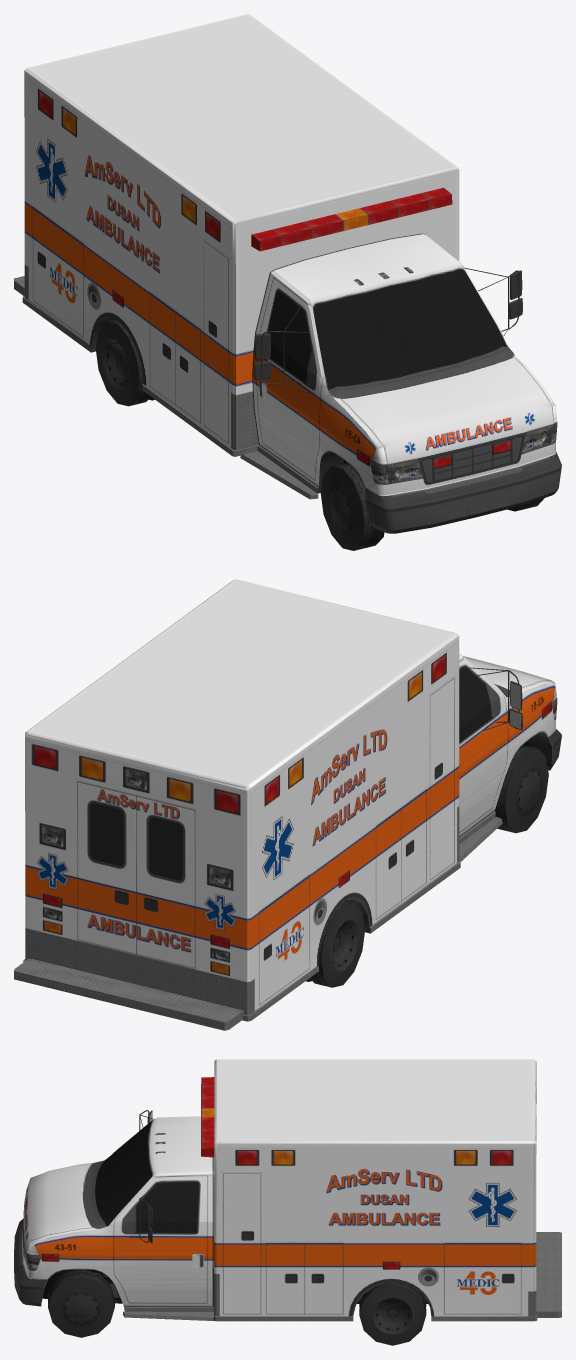
3 renders of one model, top to bottom at view 1: azimuth 30°, elevation 25°; view 2: azimuth 150°, elevation 25°; view 3: azimuth 270°, elevation 25°, orthographic. The views are drawn at different scales.
Visible parts, largest first — view 1: Body, Wheel_FR, Wheel_BR; view 2: Body, Wheel_FR, Wheel_BR; view 3: Body, Wheel_FL, Wheel_BL.
Part boxes in pixels (<box>): Body: <box>14,14,561,533</box>; Wheel_FR: <box>320,462,384,550</box>; Wheel_BR: <box>95,319,154,406</box>; Body: <box>14,579,561,1030</box>; Wheel_FR: <box>495,745,548,833</box>; Wheel_BR: <box>306,901,365,987</box>; Body: <box>14,1059,561,1321</box>; Wheel_FL: <box>48,1269,114,1337</box>; Wheel_BL: <box>359,1282,426,1345</box>.
Size of the model in its own units: 463 by 440 by 1072.
